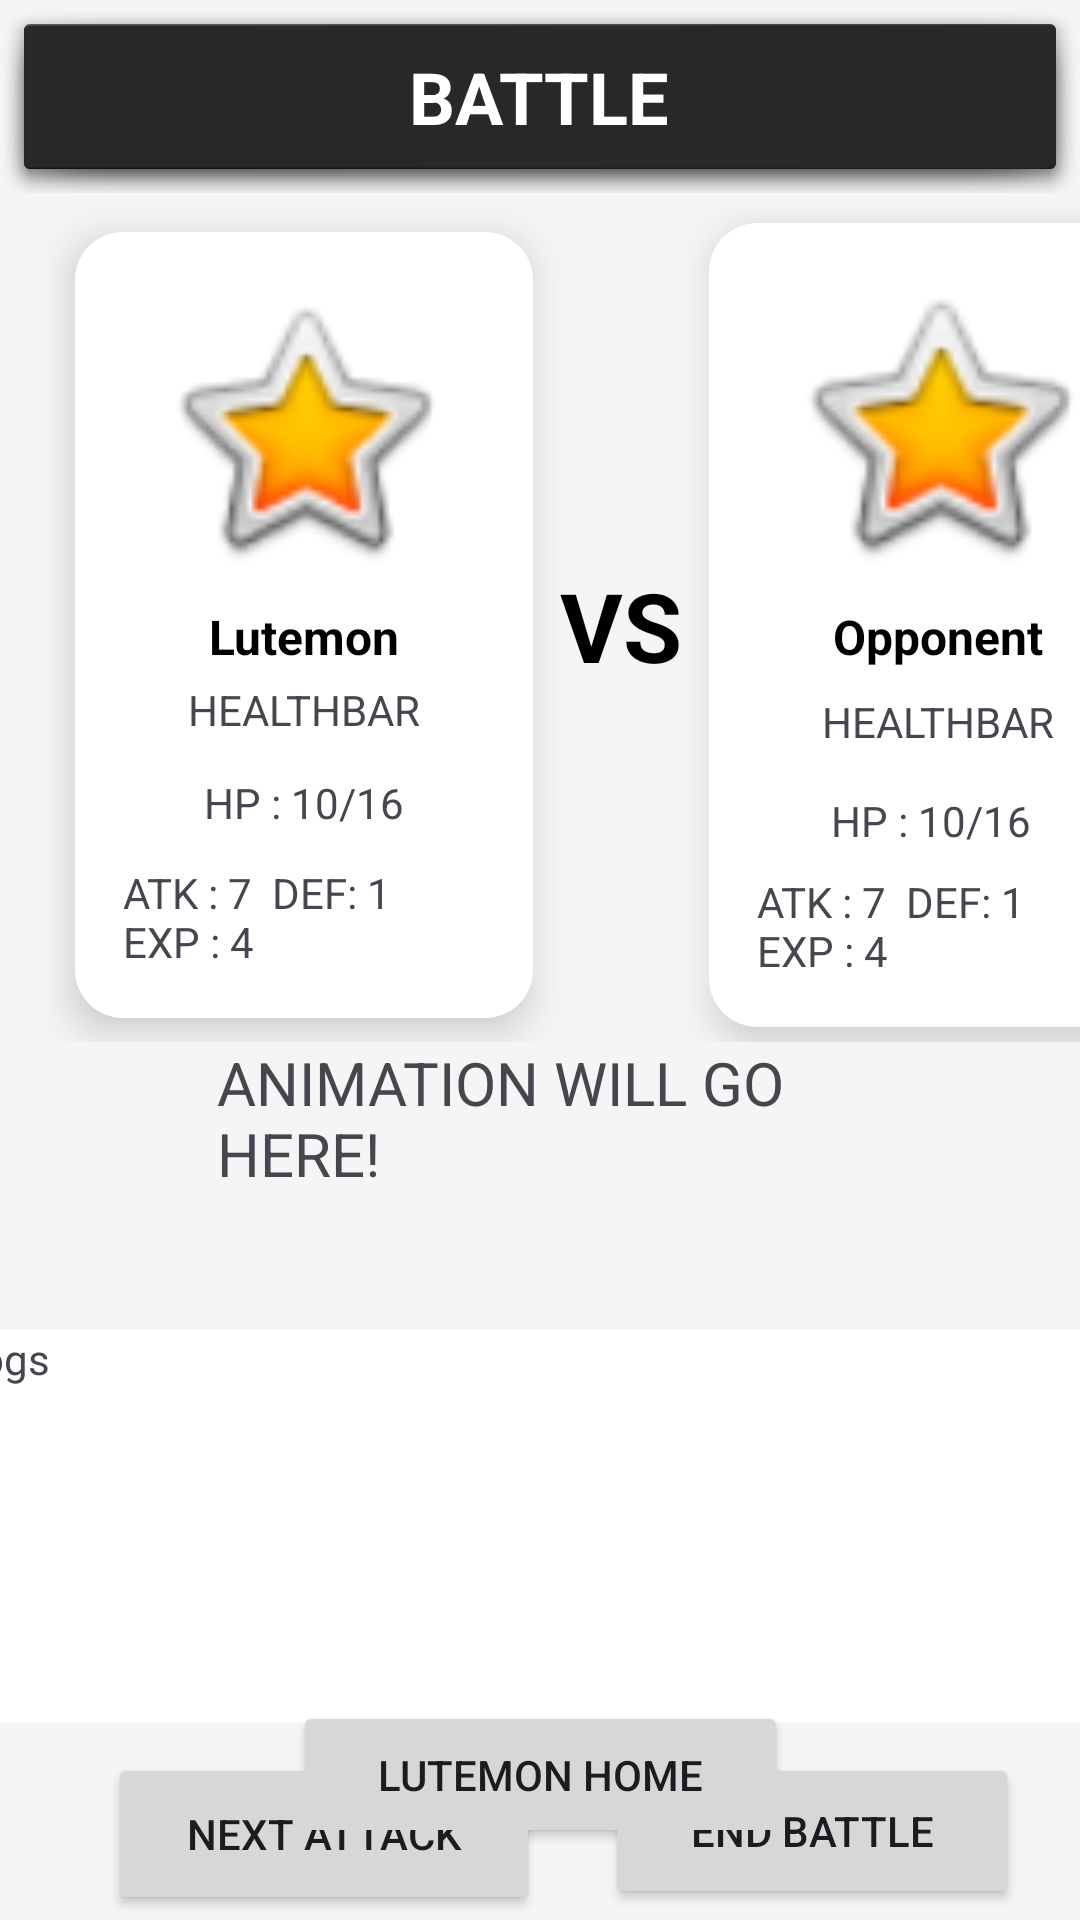

Icon bounding boxes for this 1080px x 1920px phone screenshot, format (x1, y1, x2, y2):
star on: (812, 302, 1070, 554), (181, 310, 432, 555)
